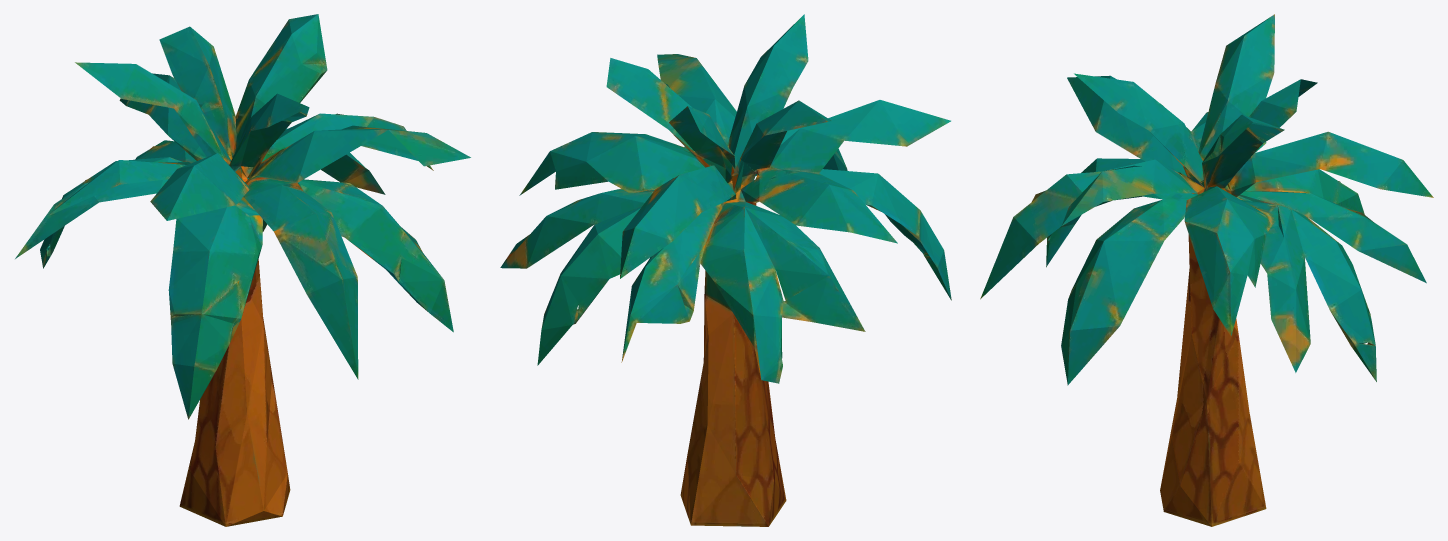
File: palm_tree.glb
3 renders of one model, left to right at view 1: azimuth 30°, elevation 25°; view 2: azimuth 150°, elevation 25°; view 3: azimuth 270°, elevation 25°, orthographic. The views are drawn at different scales.
Size of the model in its own units: 1.78 by 1.97 by 1.89.
Materials: 1 (1 with a texture image).
